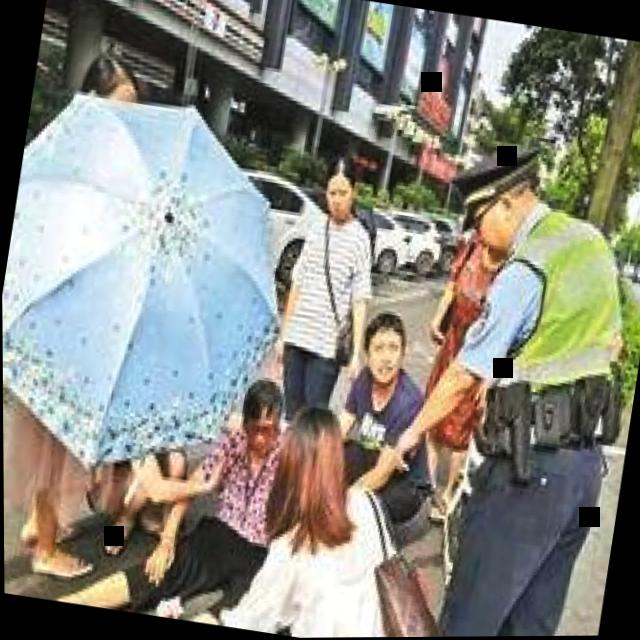Fall-Detected: (36, 326, 326, 637)
